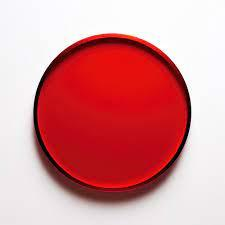red_circle: (25, 24, 202, 201)
